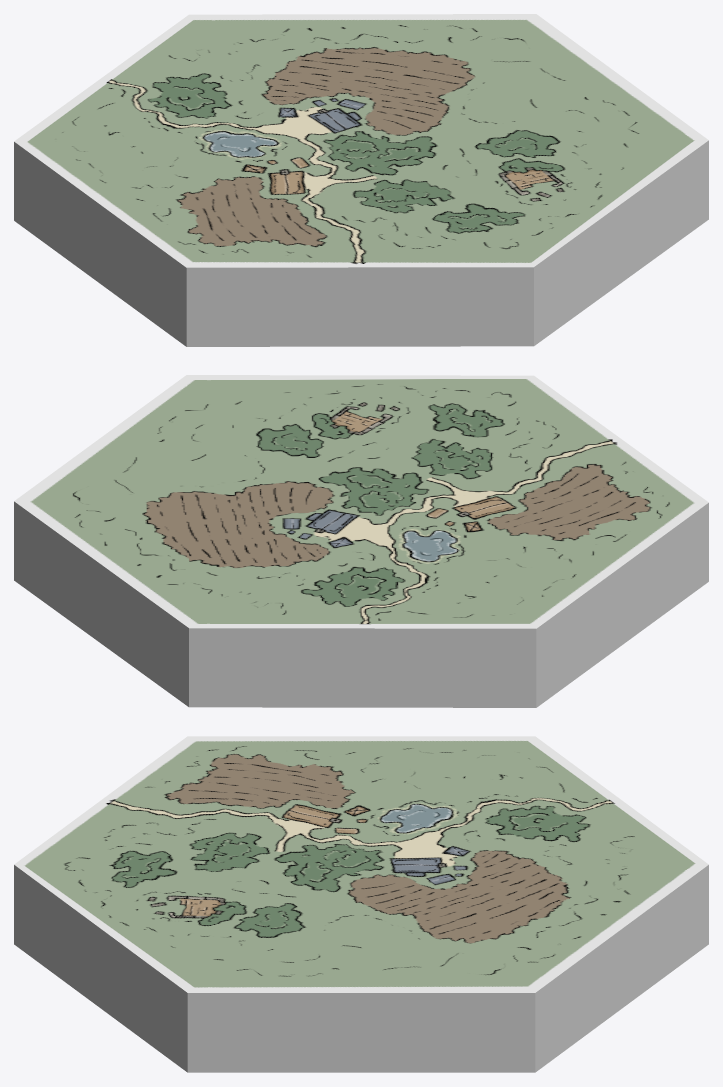
File: LRA05.glb
The picture shows the model from 3 angles, top to bottom: view 1: azimuth 30°, elevation 25°; view 2: azimuth 150°, elevation 25°; view 3: azimuth 270°, elevation 25°; orthographic projection.
Visible parts, largest first — view 1: Cylinder; view 2: Cylinder; view 3: Cylinder.
Boxes of the visible parts, bbox=[...] form: Cylinder: bbox=[14, 14, 708, 346]; Cylinder: bbox=[14, 375, 708, 707]; Cylinder: bbox=[14, 736, 708, 1072].
Bounding box in the file's own units: 1.73 × 0.2501 × 1.97.
Materials: 3 (2 with a texture image).
